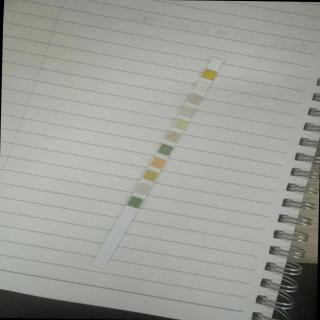mark: (203, 70, 216, 80), (144, 170, 156, 180), (152, 158, 164, 168), (196, 82, 208, 92), (212, 56, 224, 66), (129, 198, 141, 208), (160, 145, 170, 155), (168, 132, 179, 140), (138, 184, 148, 192), (176, 120, 186, 128), (182, 107, 192, 115), (191, 95, 201, 103)
